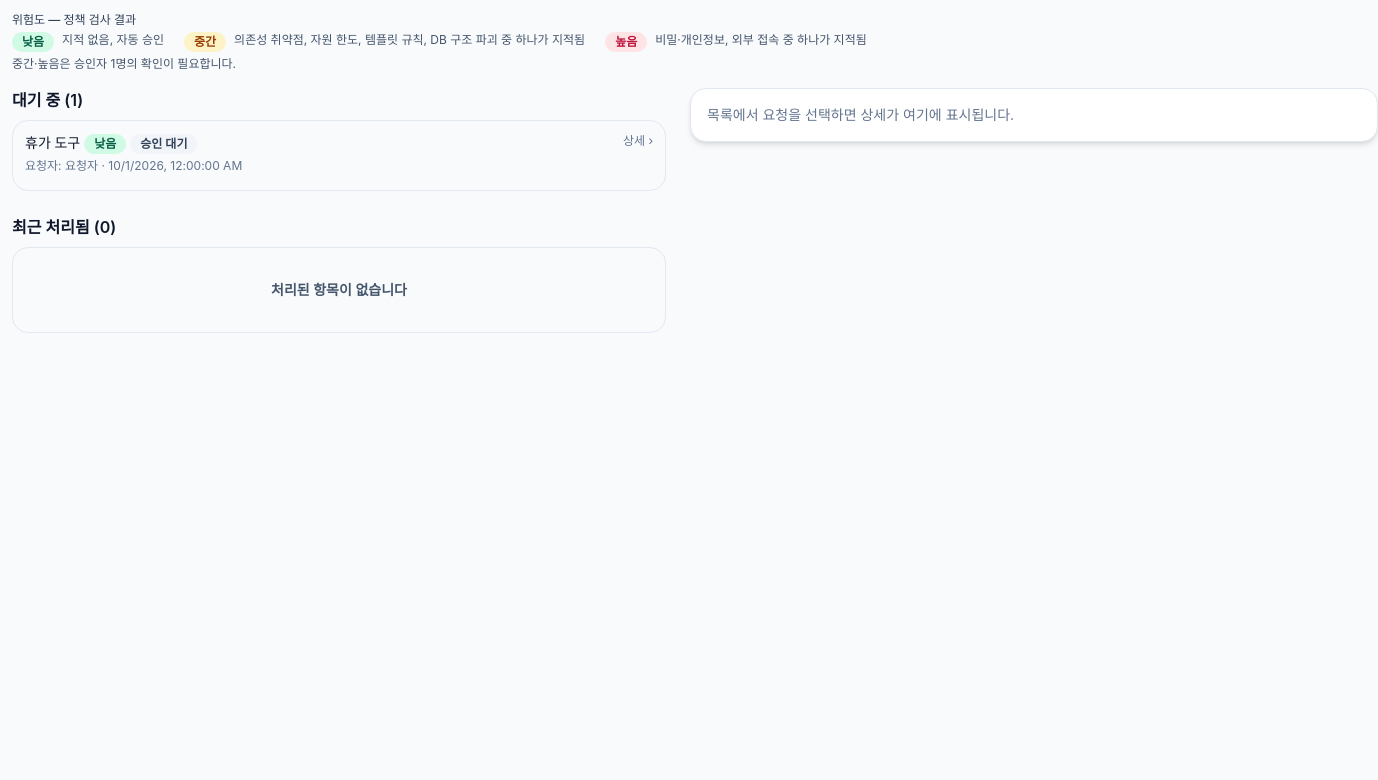
Test: the preview smoke check inside the approval console's detail › sits in the 점검 tab after the changed files' tab, before the policy checks, the agent text and the decision controls
Later steps or results of the test are not shown.
Click the list item with aria-label "휴가 도구 요청 상세 보기" at (339, 156), box [12,120,666,191]
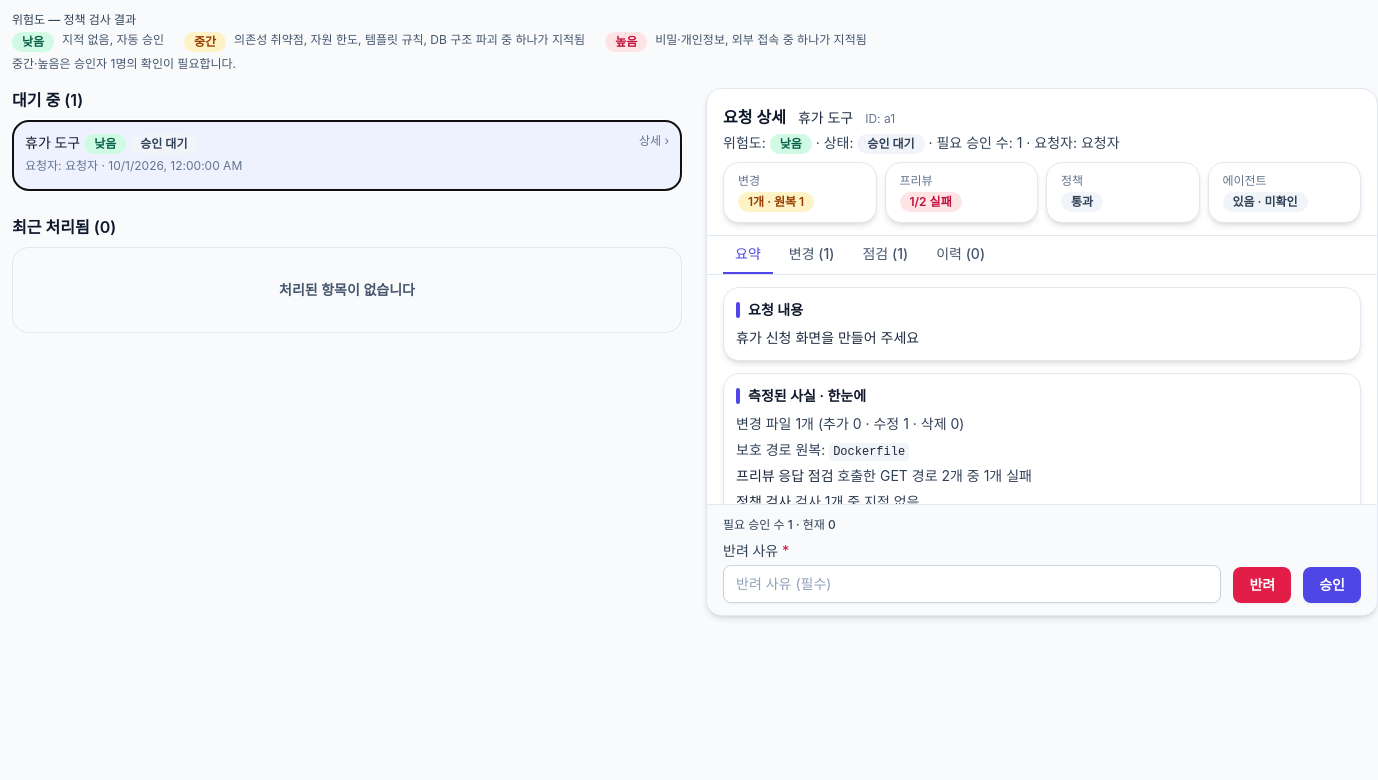
Expected: the tabs read "요약", "변경 (1)", "점검 (1)", "이력 (0)", in this order, [723,236,773,274]; [777,236,846,274]; [850,236,920,274]; [924,236,997,274]
